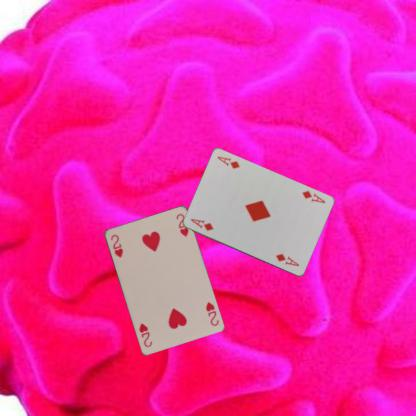2h: (202, 299, 219, 327), (108, 232, 124, 259)
Ad: (299, 188, 326, 204), (188, 216, 214, 232)
